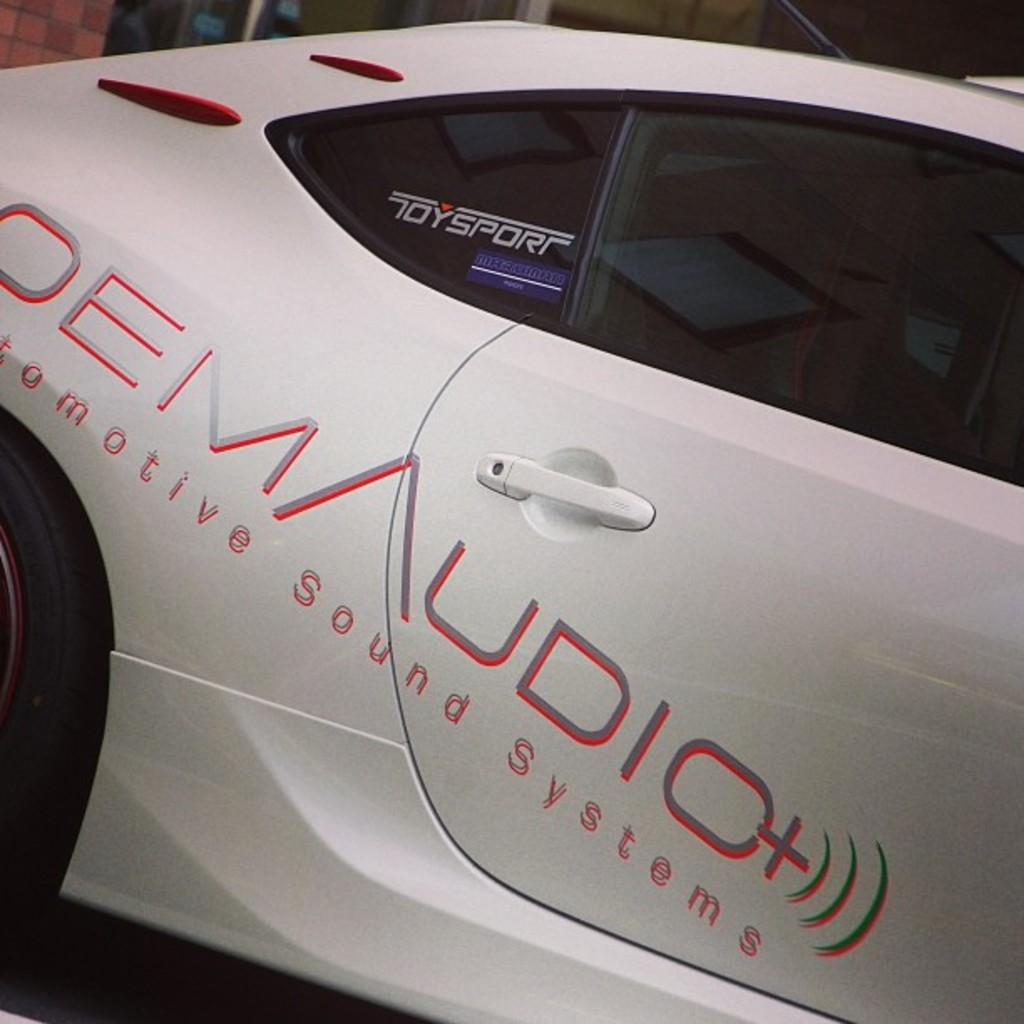handle: (491, 438, 660, 542)
